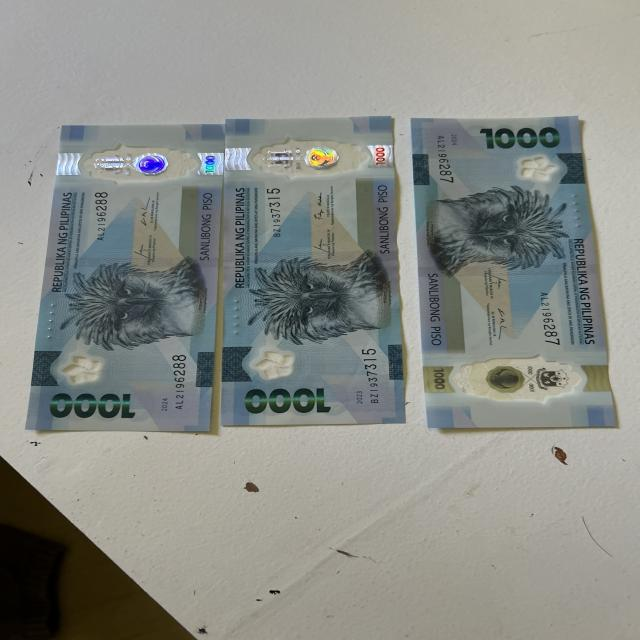clear_window: (441, 353, 595, 406), (251, 137, 380, 179), (78, 141, 204, 183)
eagle: (244, 256, 397, 341), (428, 187, 566, 275), (62, 260, 203, 346)
sampaguita: (244, 348, 298, 382), (54, 354, 109, 385), (519, 155, 559, 183)
serial_number: (529, 282, 574, 353), (261, 182, 290, 244), (434, 133, 460, 192), (363, 340, 383, 410), (94, 190, 109, 245)
value: (44, 391, 142, 420)
